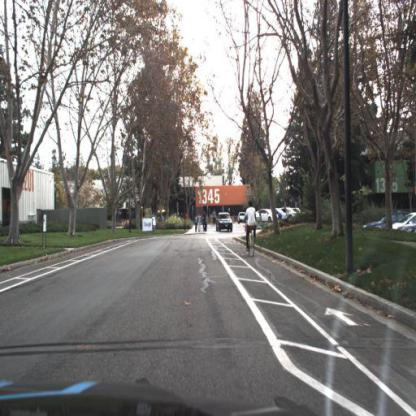biker: (245, 200, 258, 256), (246, 199, 257, 255)
car: (366, 213, 402, 230), (216, 212, 235, 235)
pedestrian: (203, 211, 208, 233), (198, 213, 203, 233), (195, 214, 199, 233), (213, 210, 217, 228), (212, 214, 214, 228)
